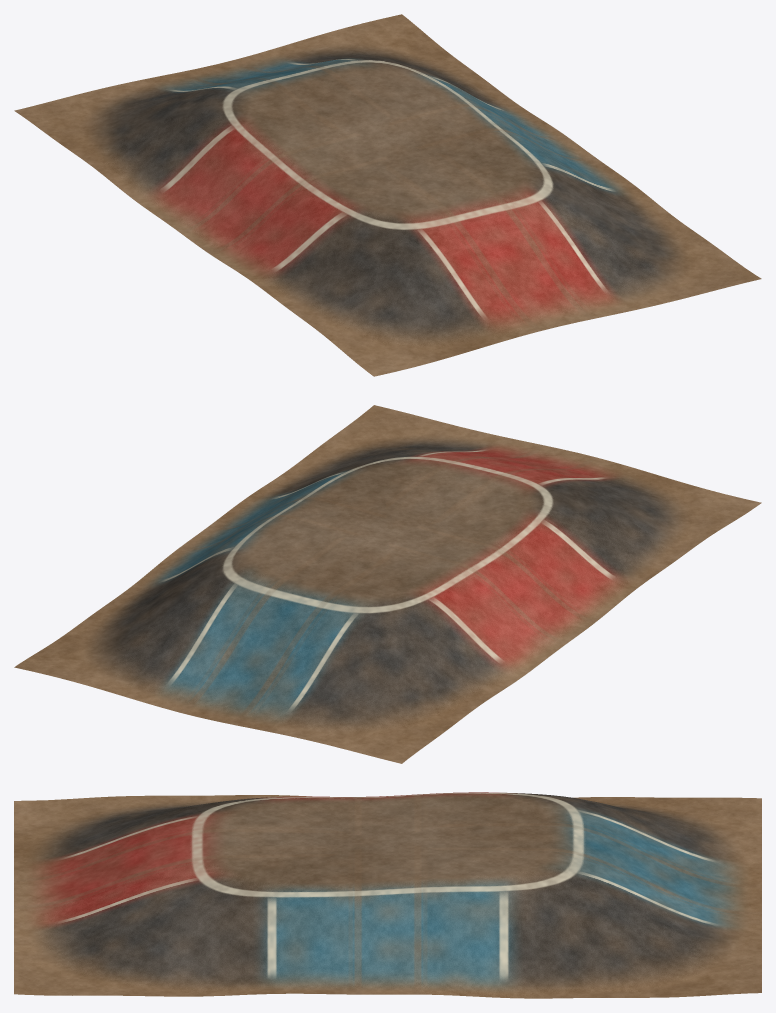
Rendered from CenterPod.obj.
3 views of the same model, one above another, from view 1: azimuth 30°, elevation 25°; view 2: azimuth 150°, elevation 25°; view 3: azimuth 270°, elevation 25° (orthographic). The views are drawn at different scales.
Visible parts, largest first — view 1: CenterPod; view 2: CenterPod; view 3: CenterPod.
Boxes of the visible parts, <box> form: CenterPod: <box>14,14,761,376</box>; CenterPod: <box>14,405,761,763</box>; CenterPod: <box>14,792,761,998</box>.
Bounding box in the file's own units: 21.4 × 3.29 × 34.4.
Materials: 1 (1 with a texture image).
